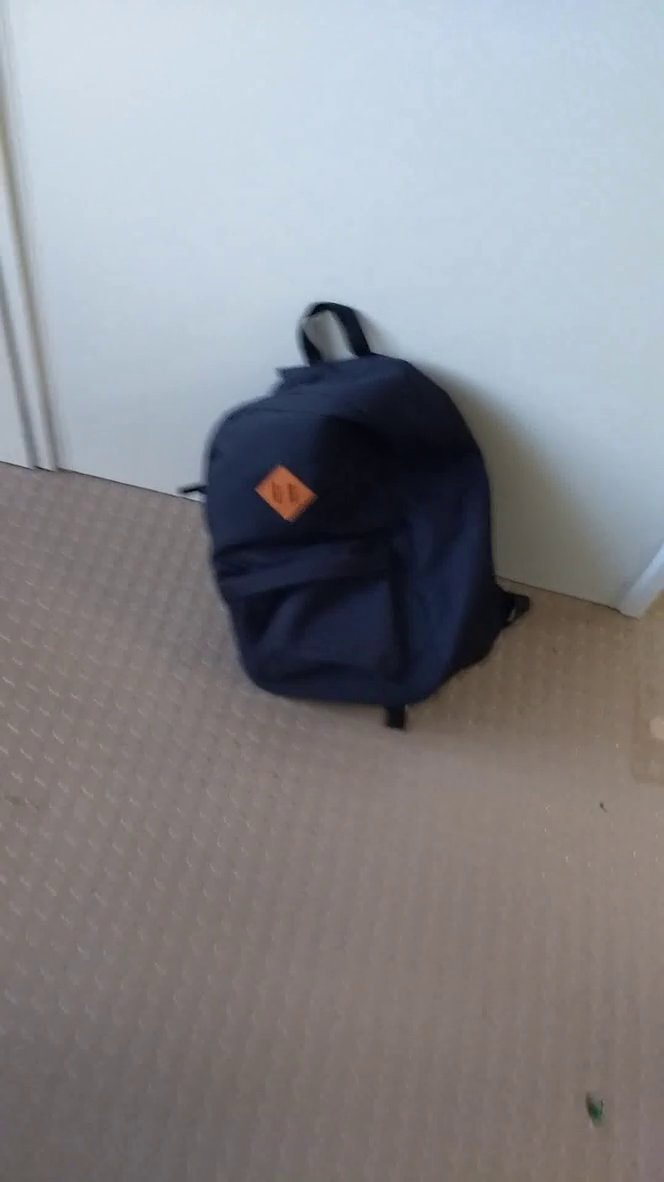bag: (170, 297, 559, 748)
